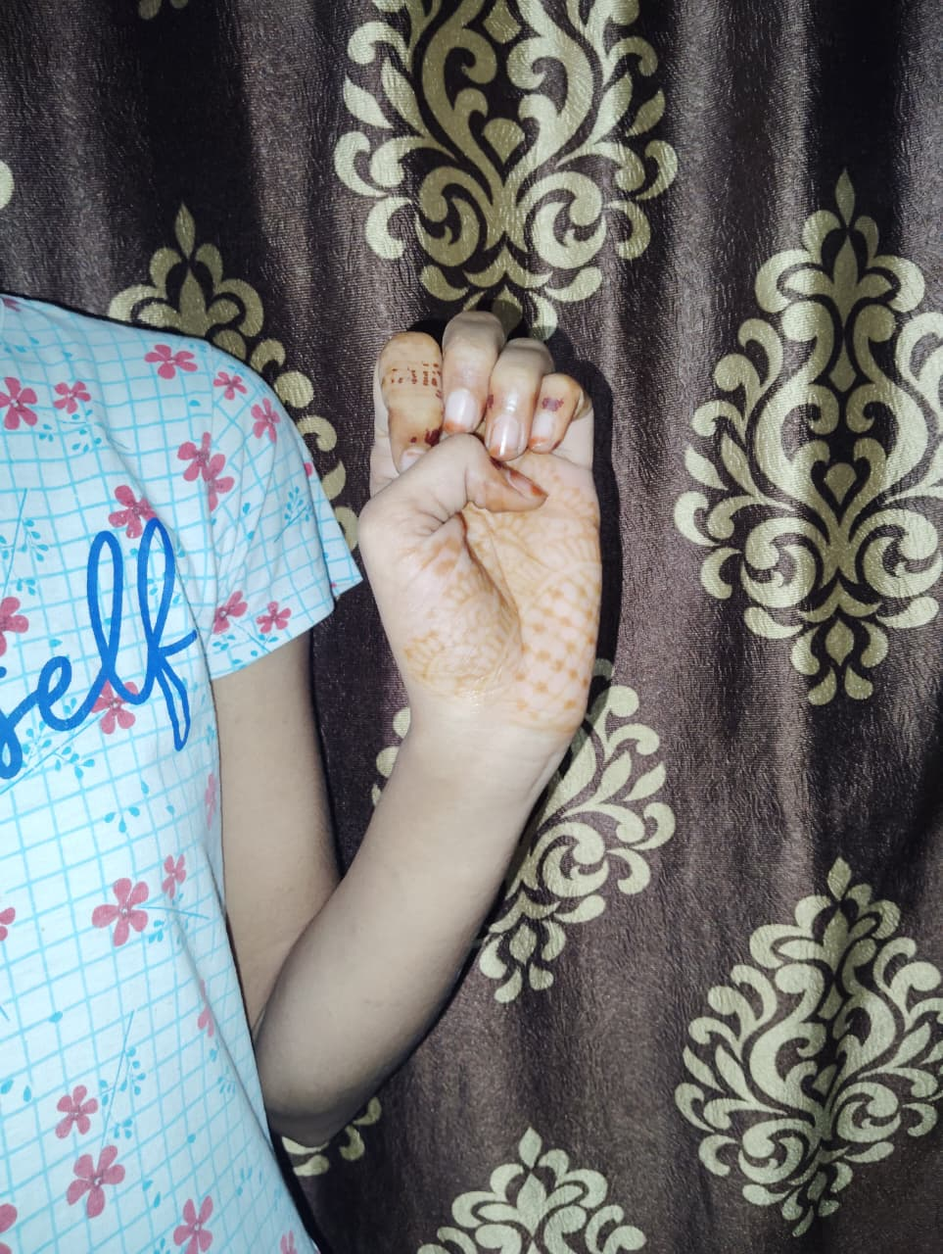E: (358, 314, 603, 748)
